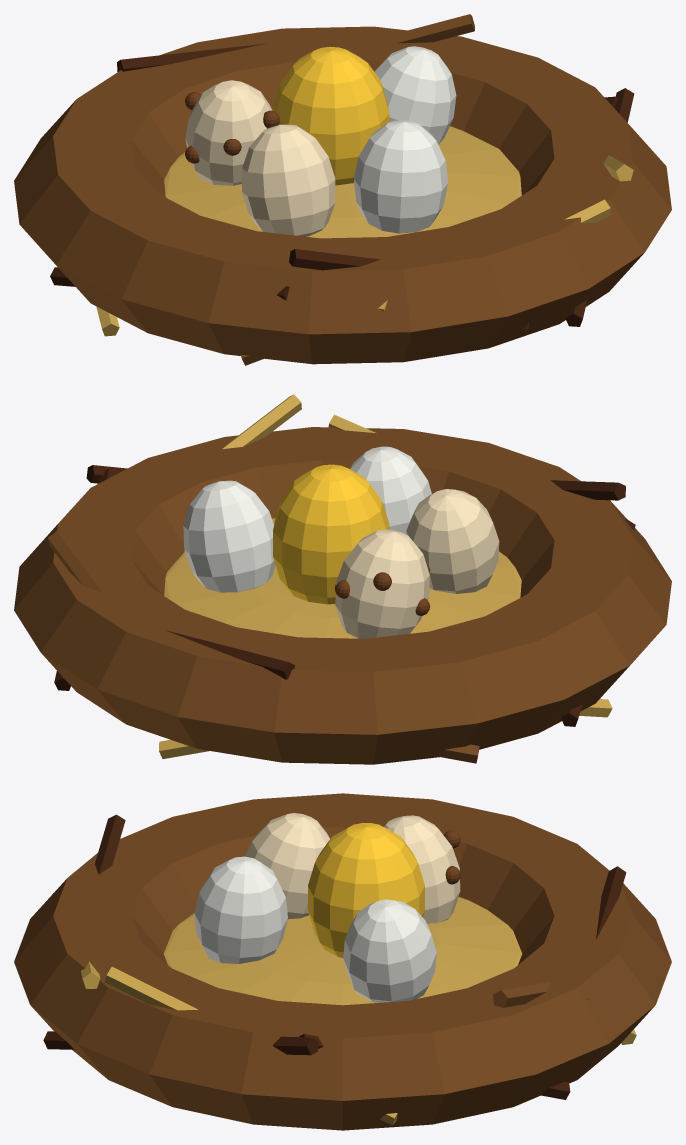
Rendered from NidoDorado.fbx.
3 renders of one model, top to bottom at view 1: azimuth 30°, elevation 25°; view 2: azimuth 150°, elevation 25°; view 3: azimuth 270°, elevation 25°, orthographic.
Visible parts, largest first — view 1: Cuerpo, Brillo_OroBrillo; view 2: Cuerpo, Brillo_OroBrillo; view 3: Cuerpo, Brillo_OroBrillo.
Boxes of the visible parts, x1=… form: Cuerpo: x1=14, y1=14, x2=671, y2=365; Brillo_OroBrillo: x1=273, y1=46, x2=389, y2=185; Cuerpo: x1=14, y1=394, x2=671, y2=764; Brillo_OroBrillo: x1=273, y1=464, x2=389, y2=604; Cuerpo: x1=14, y1=793, x2=671, y2=1130; Brillo_OroBrillo: x1=308, y1=823, x2=424, y2=957.
Size of the model in its own units: 420 by 144 by 420.
Materials: 1 (1 with a texture image).
